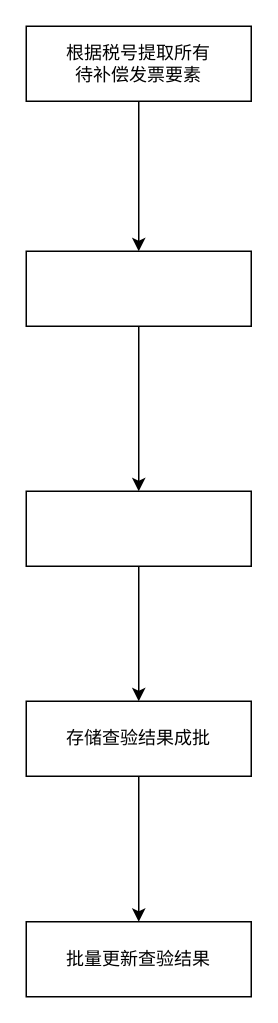
Some shapes in this 278 by 1023 pixel diagram are drawn without their labels. Here are the shapes that lost their labels. From the top down, the centre of each, then its label:
At point 138,288: "提取单张发票补偿要素".
At point 138,528: "单张发票查验补偿".
